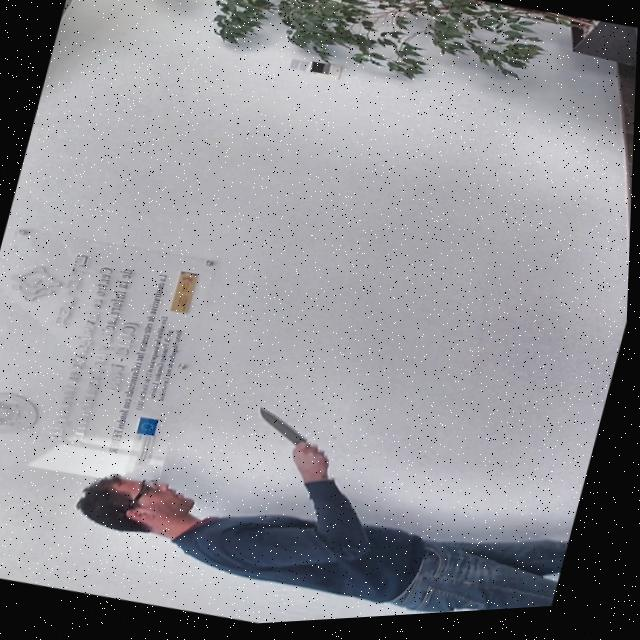knife: (245, 405, 316, 455)
